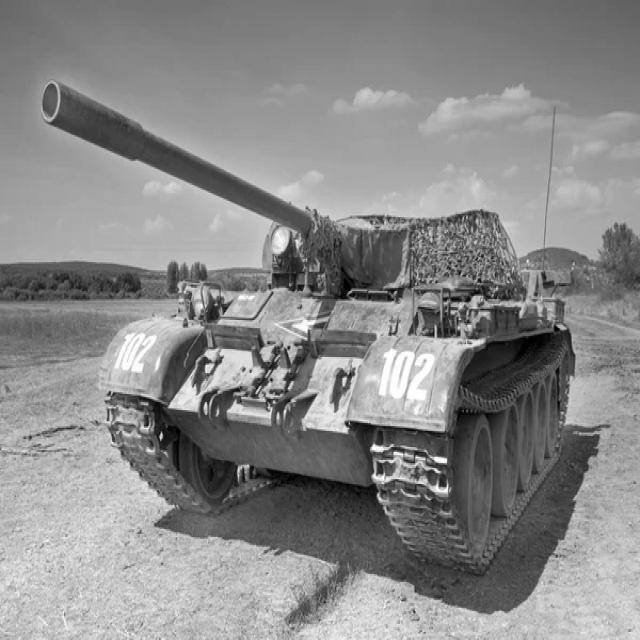Tank: (32, 64, 584, 586)
